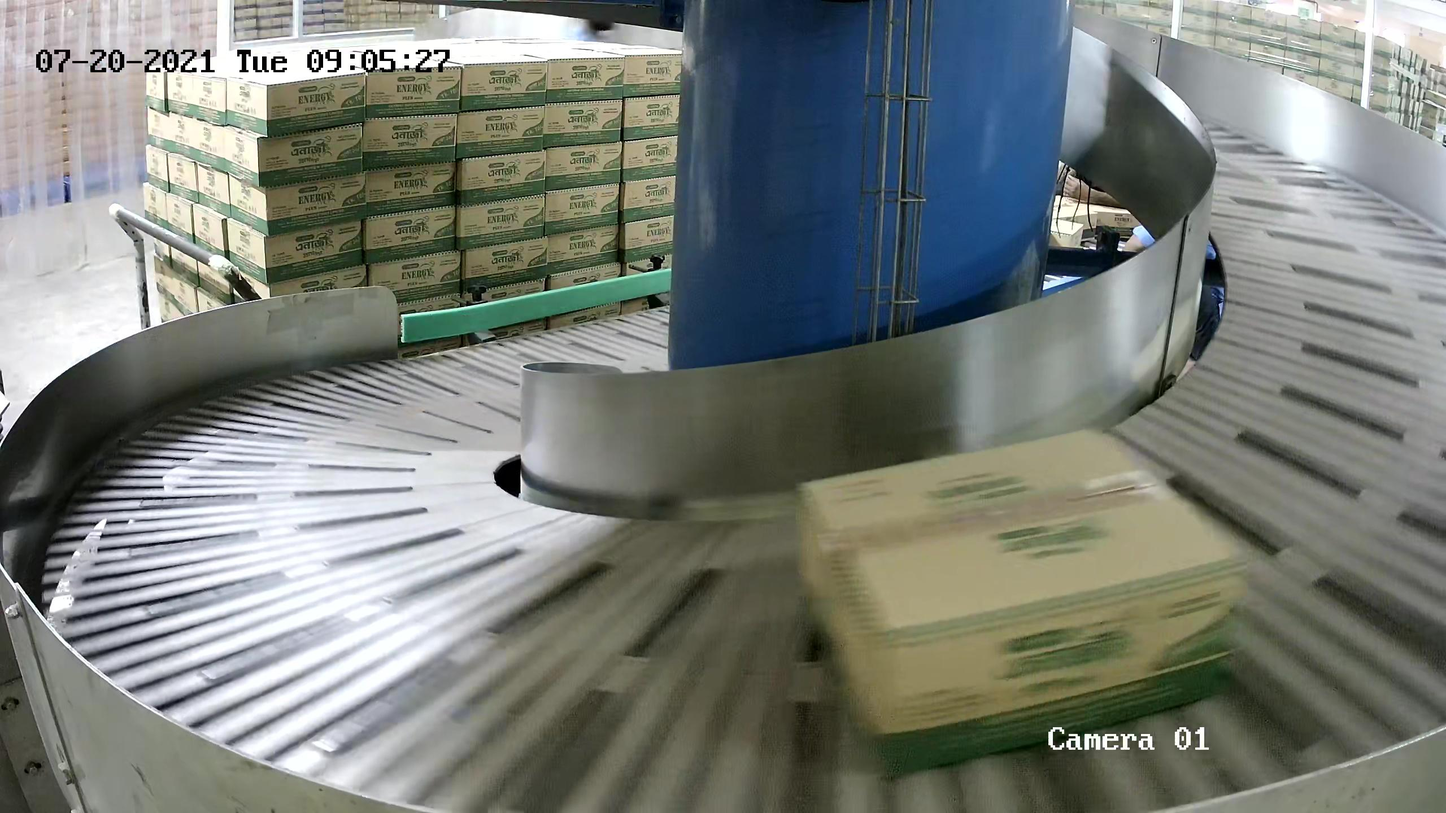Box: (789, 422, 1257, 783)
